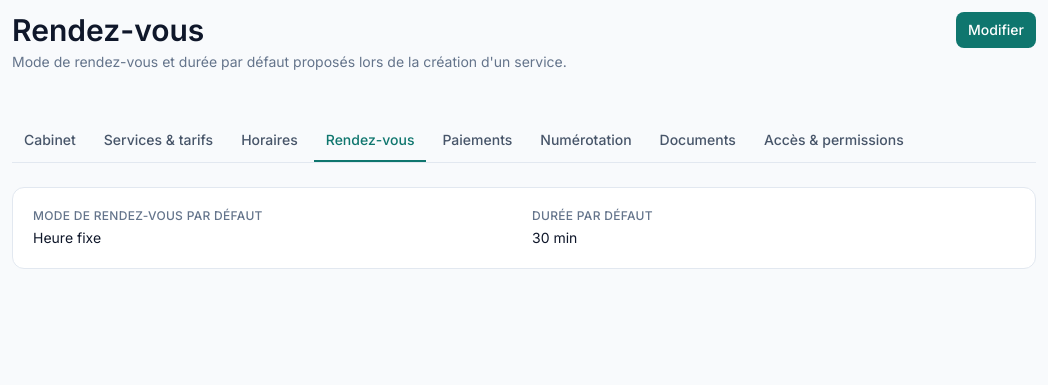
Test case: AppointmentSettingsPage › Modifier reveals the bounded edit form pre-filled with current values
This screenshot has width=1048, height=385.
Click the button "Modifier".
click(996, 30)  # box [956, 12, 1036, 48]
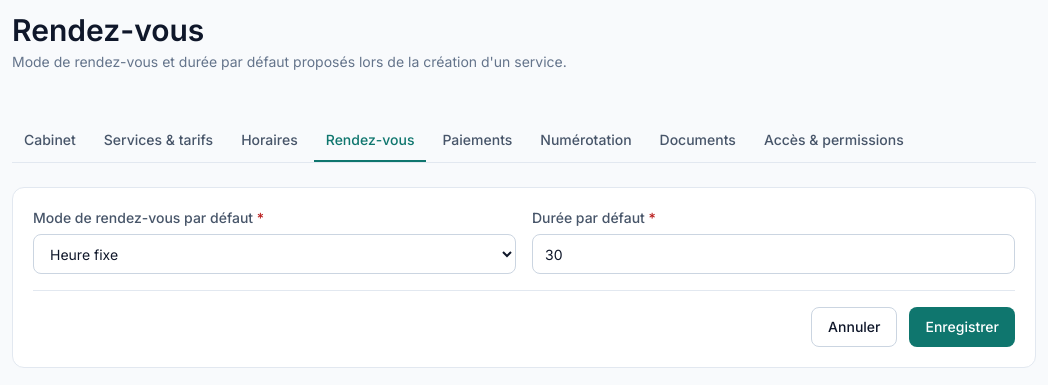
Expected: the field labelled "Durée par défaut *" holds "30", [532, 234, 1015, 274]
